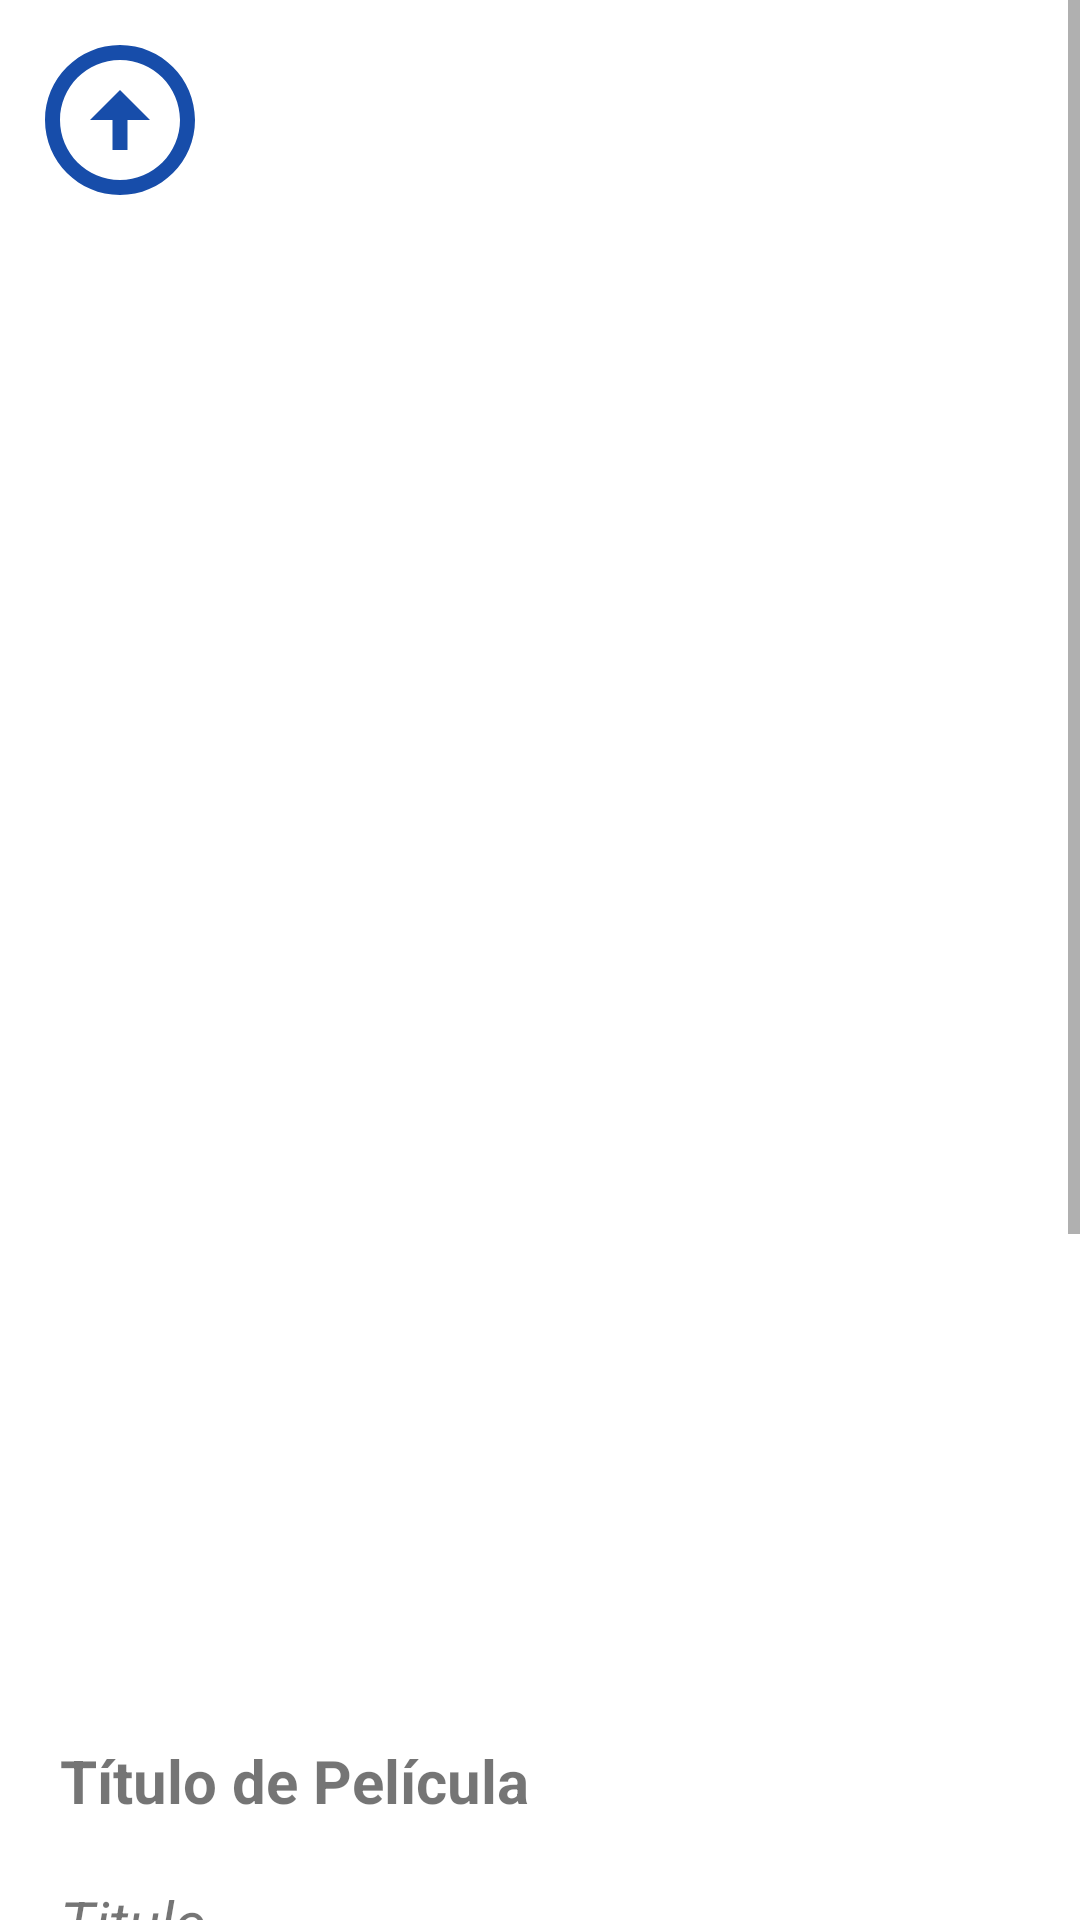

Icons on this 1080x1920 Android screen, each with its box as {"x1": x1, "y1": y1, "x2": x2, "y2": y2}:
arrow circle up: {"x1": 45, "y1": 45, "x2": 195, "y2": 195}
